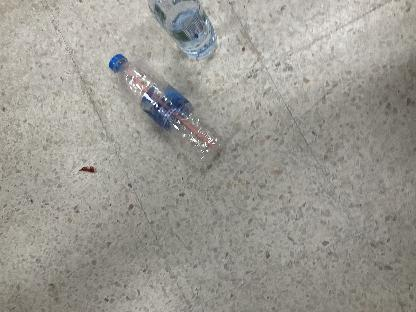Plastic Bottle: (110, 54, 224, 172), (146, 1, 219, 60)
